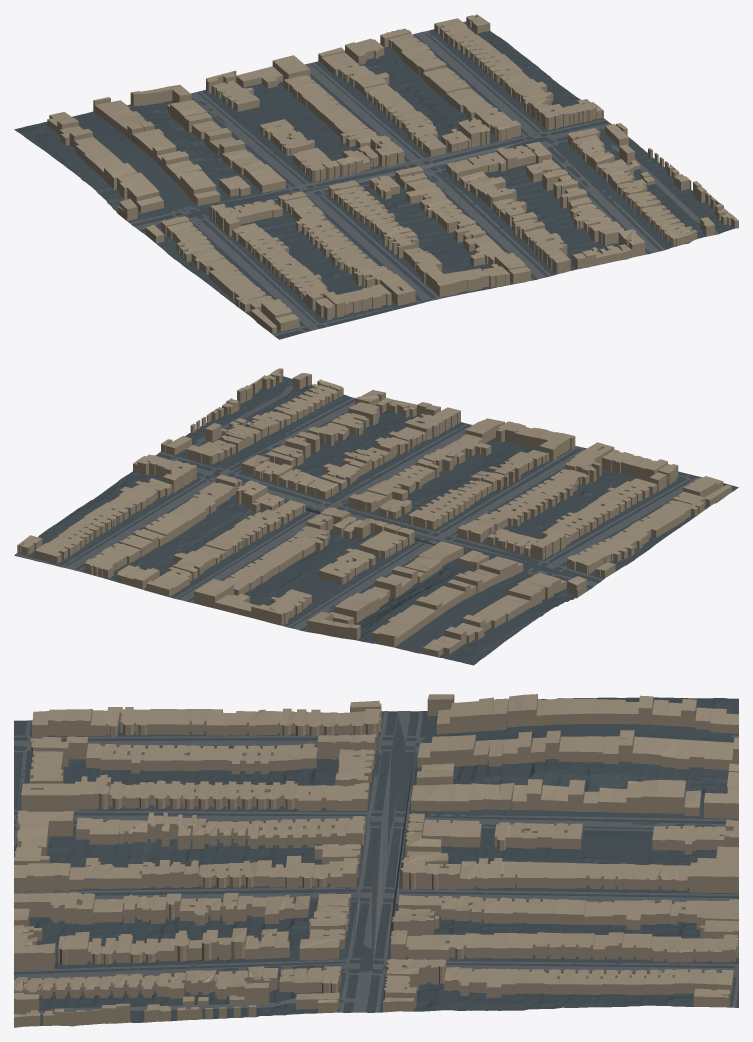
The model's file is epsg26910-1420-10883.lod0.glb.
3 views of the same model, one above another, from view 1: azimuth 30°, elevation 25°; view 2: azimuth 150°, elevation 25°; view 3: azimuth 270°, elevation 25° (orthographic). The views are drawn at different scales.
Visible parts, largest first — view 1: epsg26910-1420-10883-lod0; view 2: epsg26910-1420-10883-lod0; view 3: epsg26910-1420-10883-lod0.
Part boxes in pixels (x1,y1,x2,y2): epsg26910-1420-10883-lod0: (14,14,738,339); epsg26910-1420-10883-lod0: (14,368,738,665); epsg26910-1420-10883-lod0: (14,694,738,1027).
Size of the model in its own units: 384 by 27.58 by 384.
